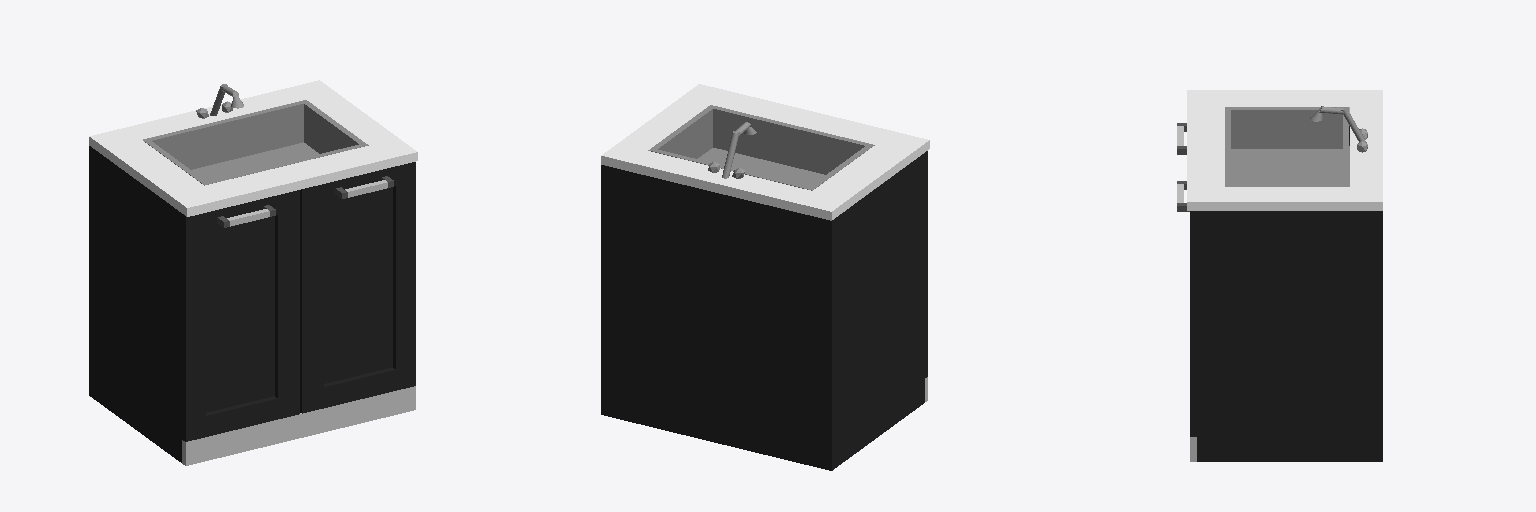
Rendered from cabinetWithBasin.obj.
The picture shows the model from 3 angles: view 1: azimuth 30°, elevation 25°; view 2: azimuth 150°, elevation 25°; view 3: azimuth 270°, elevation 25°; orthographic projection.
Parts seen in each view (by area): view 1: 191, 351, 399, 311, 223, 343, 263; view 2: 191, 399, 311, 223, 351; view 3: 191, 311, 399, 223, 351.
Part boxes in pixels (x1,y1,x2,y2): 191: (89, 146, 392, 430); 351: (182, 162, 415, 441); 399: (89, 179, 392, 462); 311: (89, 80, 417, 216); 223: (143, 100, 368, 185); 343: (182, 386, 415, 465); 263: (227, 180, 387, 226); 191: (601, 153, 924, 440); 399: (601, 186, 924, 470); 311: (601, 84, 929, 220); 223: (648, 105, 874, 190); 351: (925, 151, 927, 377); 191: (1197, 126, 1382, 430); 311: (1187, 90, 1382, 210); 399: (1197, 140, 1382, 461); 223: (1225, 107, 1349, 186); 351: (1190, 211, 1196, 436).
Size of the model in its own units: 80 by 99.04 by 62.